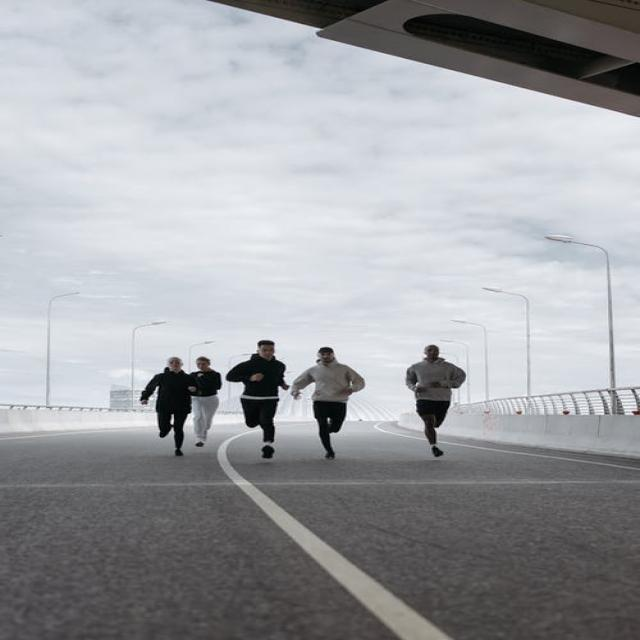running: (290, 344, 370, 458), (408, 338, 474, 459), (228, 338, 288, 458), (140, 354, 194, 459), (188, 351, 226, 449)
